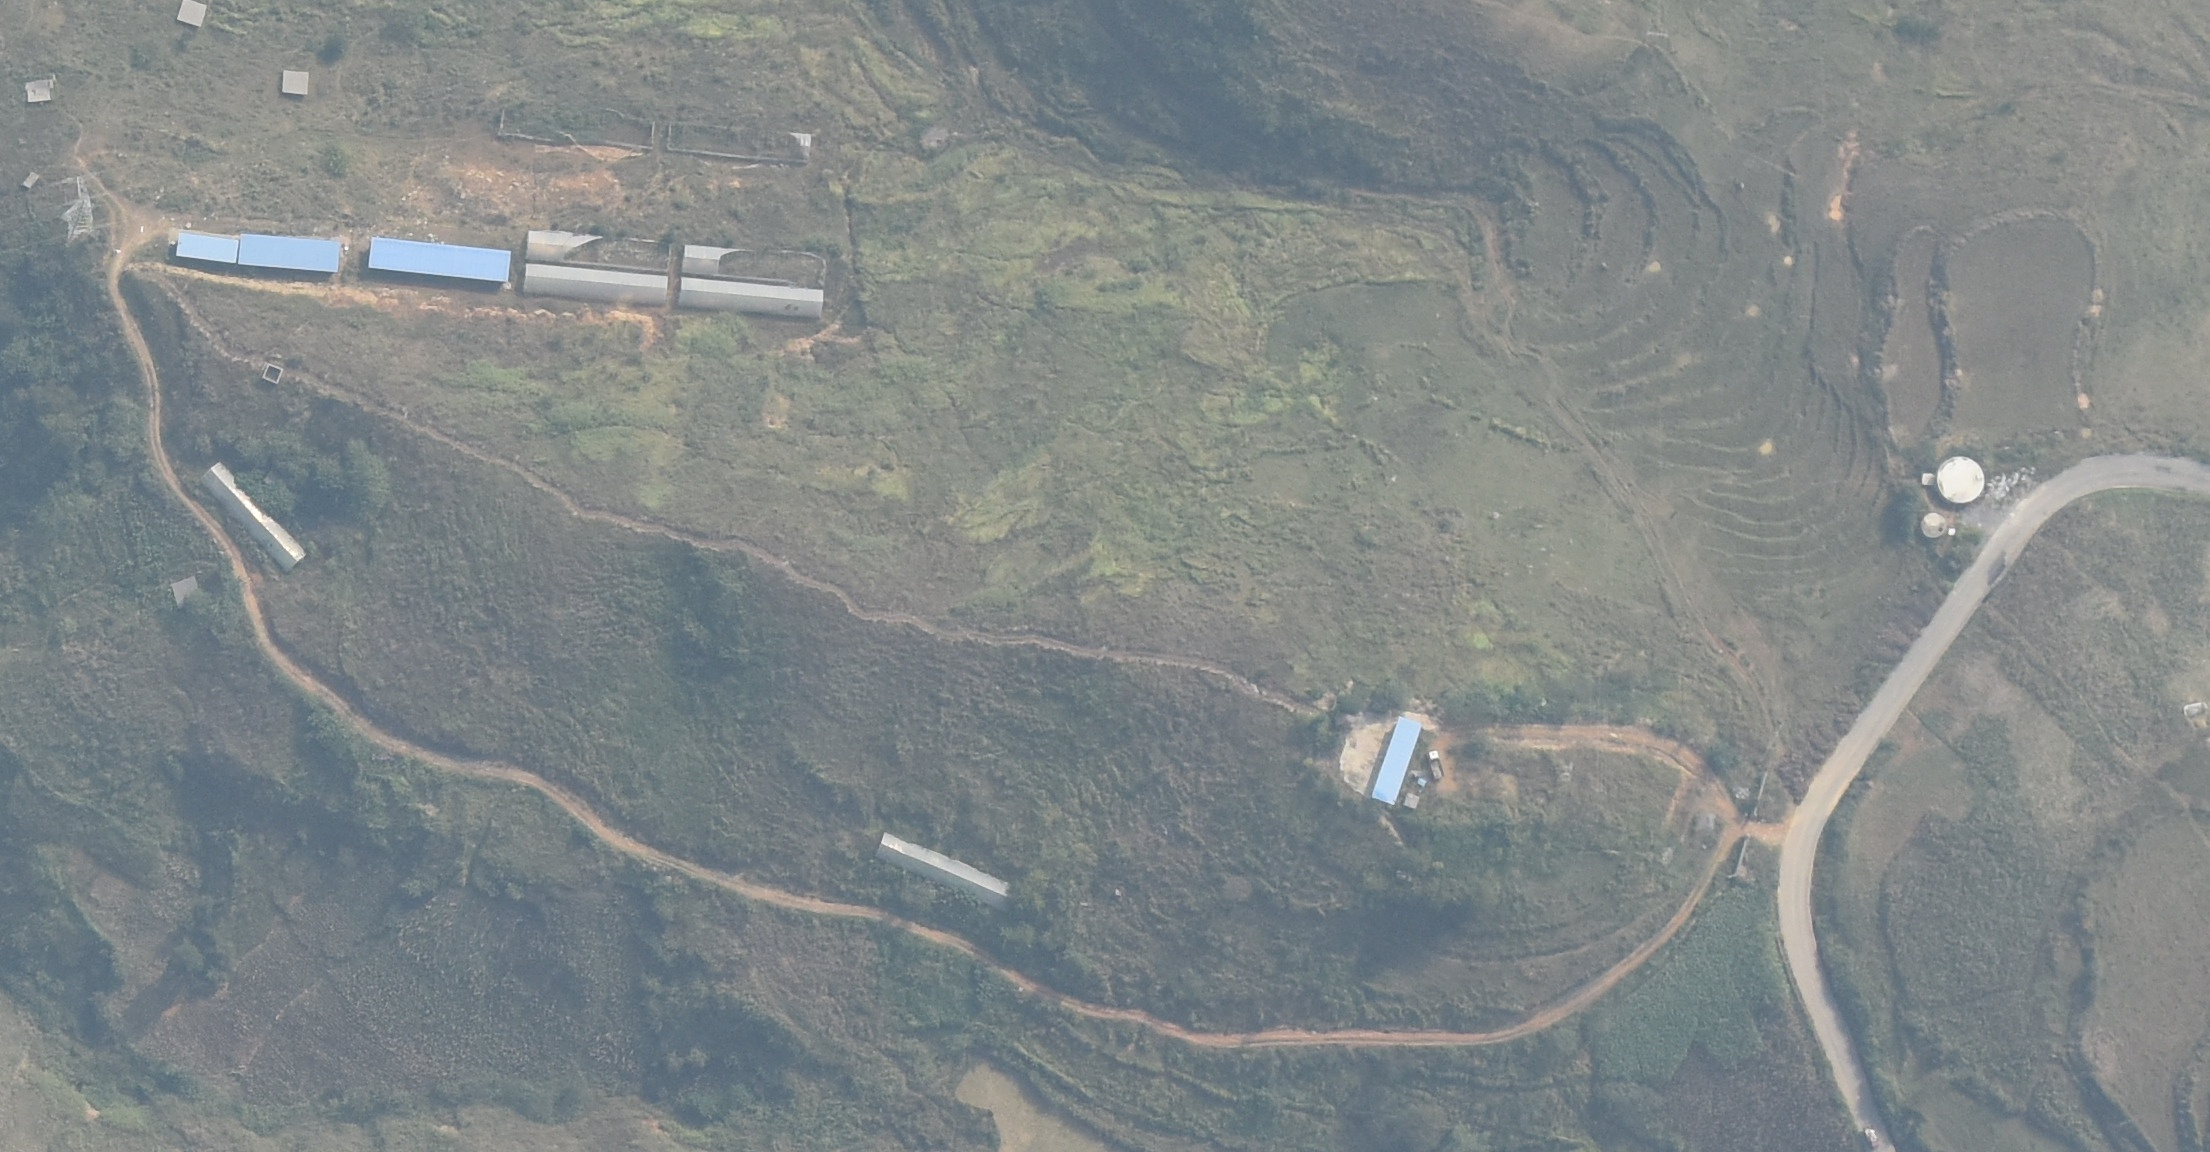building: (196, 458, 305, 572), (23, 77, 53, 102), (178, 1, 206, 26), (284, 69, 308, 95)
prefabricated-house: (678, 235, 827, 314), (522, 228, 672, 303), (876, 827, 1011, 909), (367, 231, 514, 285), (1367, 713, 1446, 807), (237, 235, 343, 273), (174, 227, 240, 265)
vehicle: (1424, 749, 1446, 782)
well: (197, 461, 307, 575), (1934, 449, 1989, 504), (1919, 513, 1951, 539)
